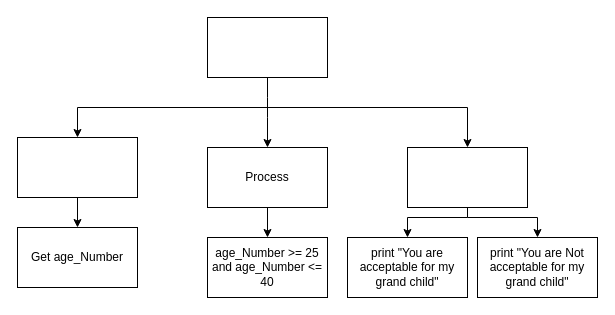
This 615x315 diagram has some shape labels left out. The shapes that lost their labels are listed below. From the top down, each one's centre as x and y in pixels, then its label:
At point (267, 47): "Grandma".
At point (77, 167): "Input".
At point (467, 177): "Output".
